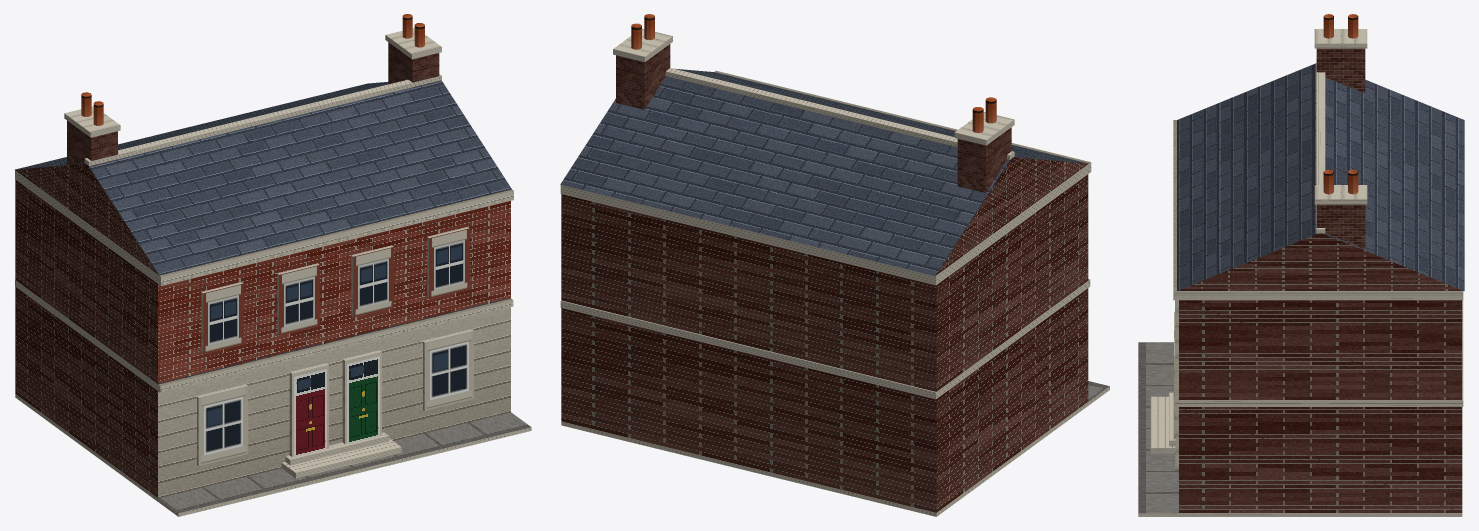
File: building_terraced_row_02.glb
3 renders of one model, left to right at view 1: azimuth 30°, elevation 25°; view 2: azimuth 150°, elevation 25°; view 3: azimuth 270°, elevation 25°, orthographic. The views are drawn at different scales.
Parts seen in each view (by area): view 1: Building_Terraced_Row_02; view 2: Building_Terraced_Row_02; view 3: Building_Terraced_Row_02.
Boxes of the visible parts, x1,y1,x2,y2 form: Building_Terraced_Row_02: (15,14,531,516); Building_Terraced_Row_02: (560,14,1109,516); Building_Terraced_Row_02: (1138,14,1464,516).
Size of the model in its own units: 10 by 9.19 by 8.05.
1 material, 1 textured.
